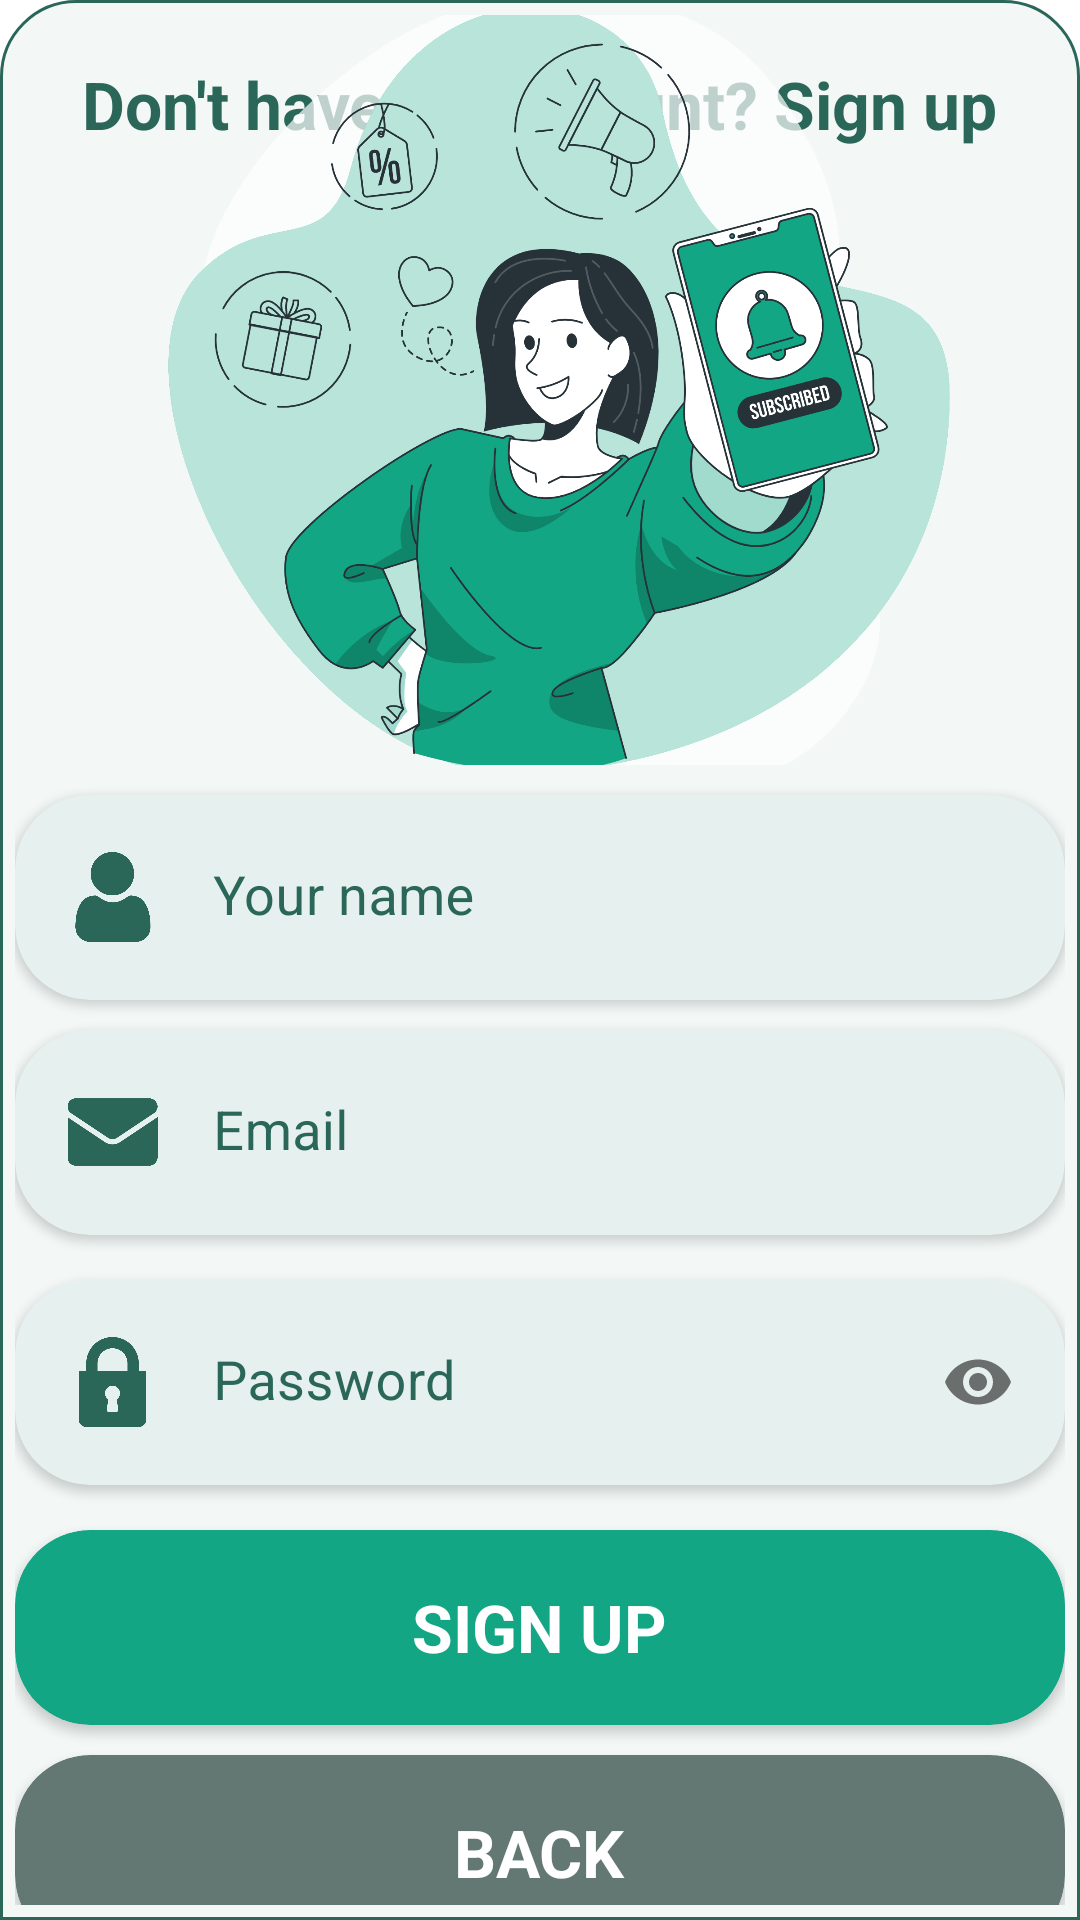

Where to tap for icons on this 1080*1920 app screen, as point (x, y):
user: point (113, 897)
